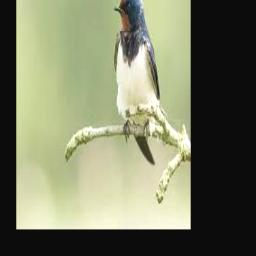Swallow: (113, 0, 159, 165)
